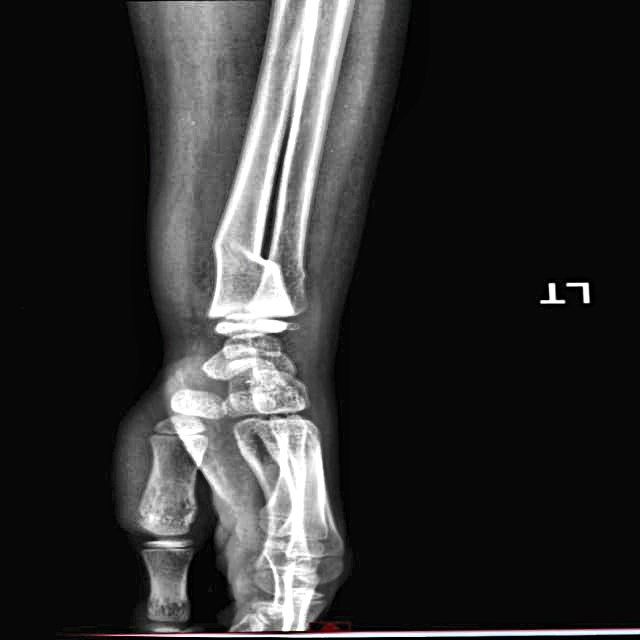Greenstick: (223, 235, 289, 291)
